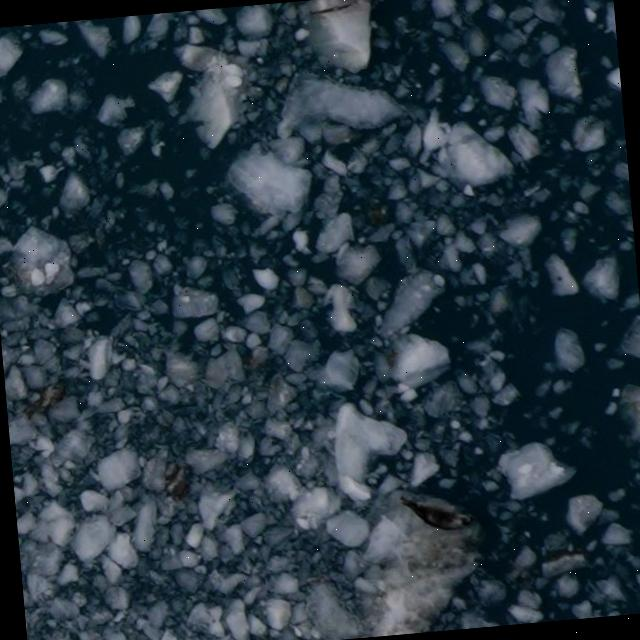seal: (399, 498, 469, 531)
